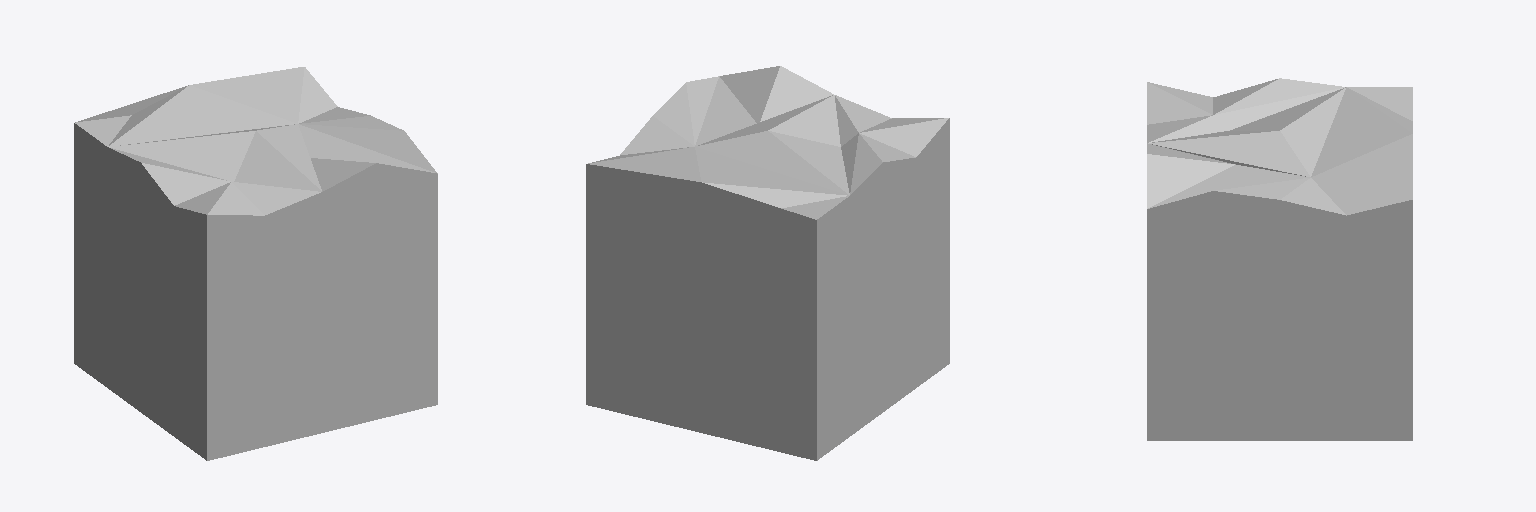
The model's file is GrassBlock_New.obj.
The picture shows the model from 3 angles: view 1: azimuth 30°, elevation 25°; view 2: azimuth 150°, elevation 25°; view 3: azimuth 270°, elevation 25°; orthographic projection.
Parts seen in each view (by area): view 1: pCube1; view 2: pCube1; view 3: pCube1.
Boxes of the visible parts, box(x1,y1,x2,y2) form: pCube1: box(74, 67, 437, 460); pCube1: box(586, 66, 949, 460); pCube1: box(1147, 78, 1412, 440).
Size of the model in its own units: 10 by 10.65 by 10.